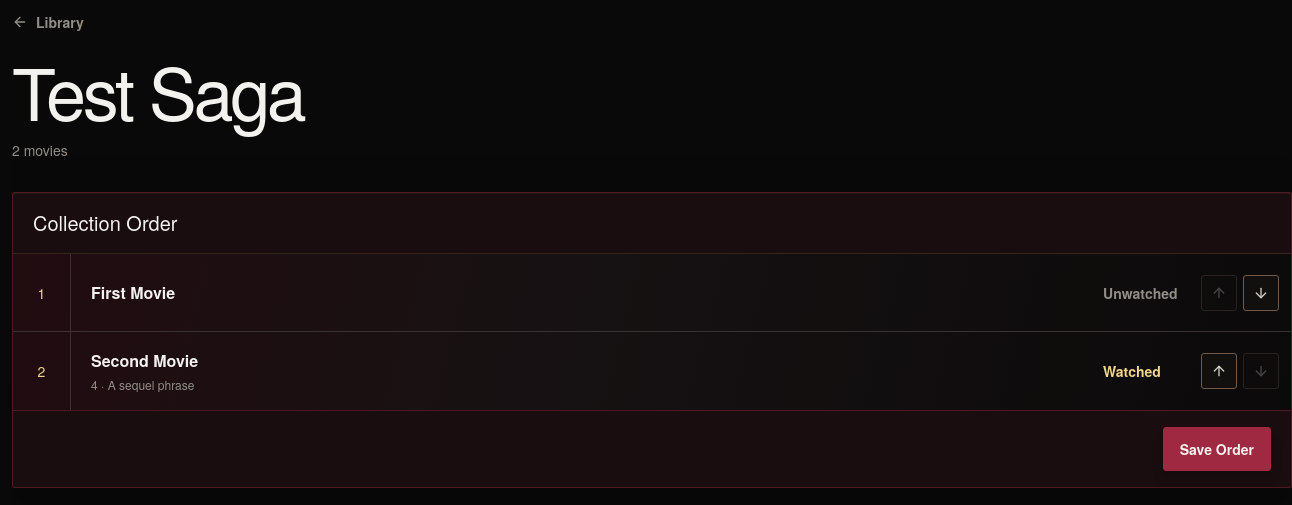
it: collection details › lists every member in saved order and persists a complete reorder
Expected: the heading "Test Saga" is shown, [12,56,304,124]
Expected: the text "2 movies" is shown, [12,140,68,160]
Click the button named "Move Second Movie Up".
click(1219, 371)  # box [1201,353,1237,389]
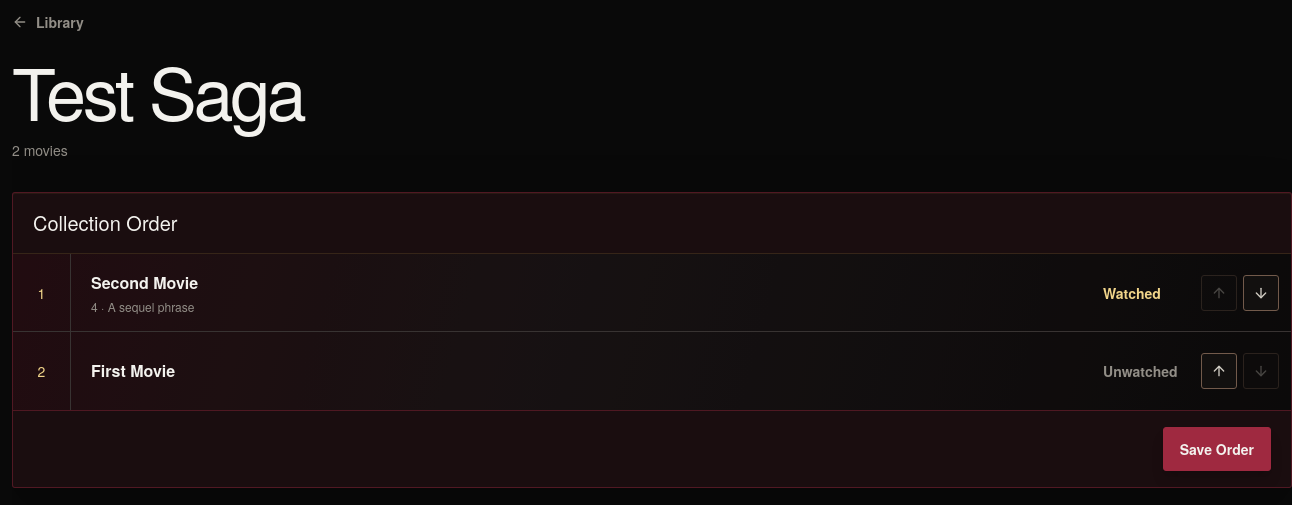
Click the button "Save Order".
click(1217, 449)  # box [1163,427,1271,471]
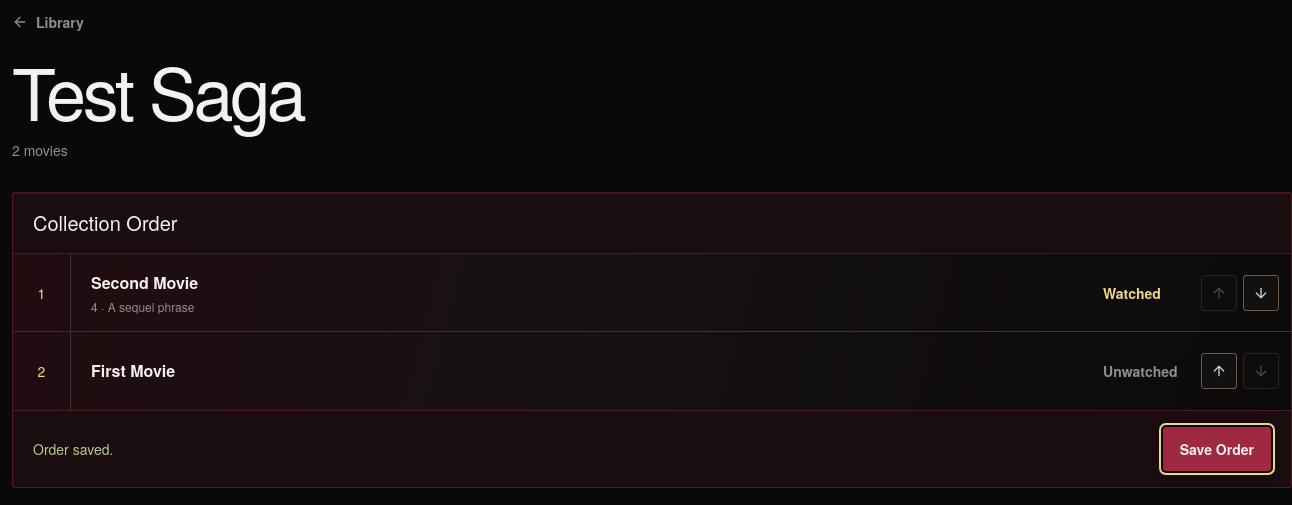
Result: the message reads "Order saved." at [33,439,113,459]
